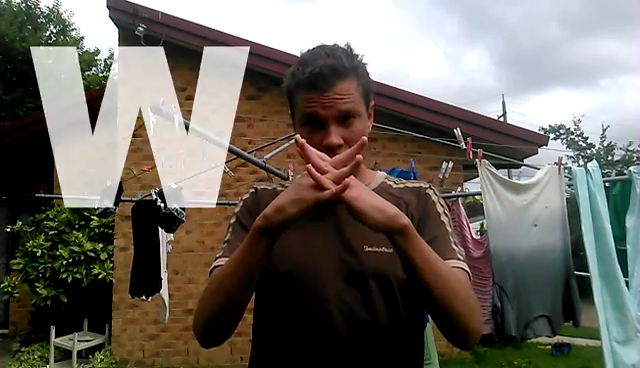W: (271, 130, 396, 228)
